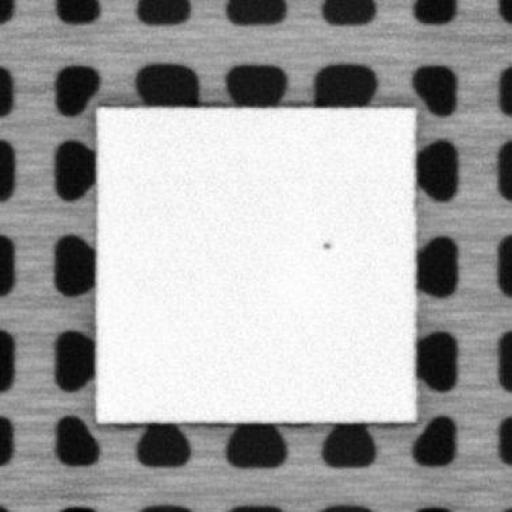DIE_INK: (318, 236, 330, 250)
